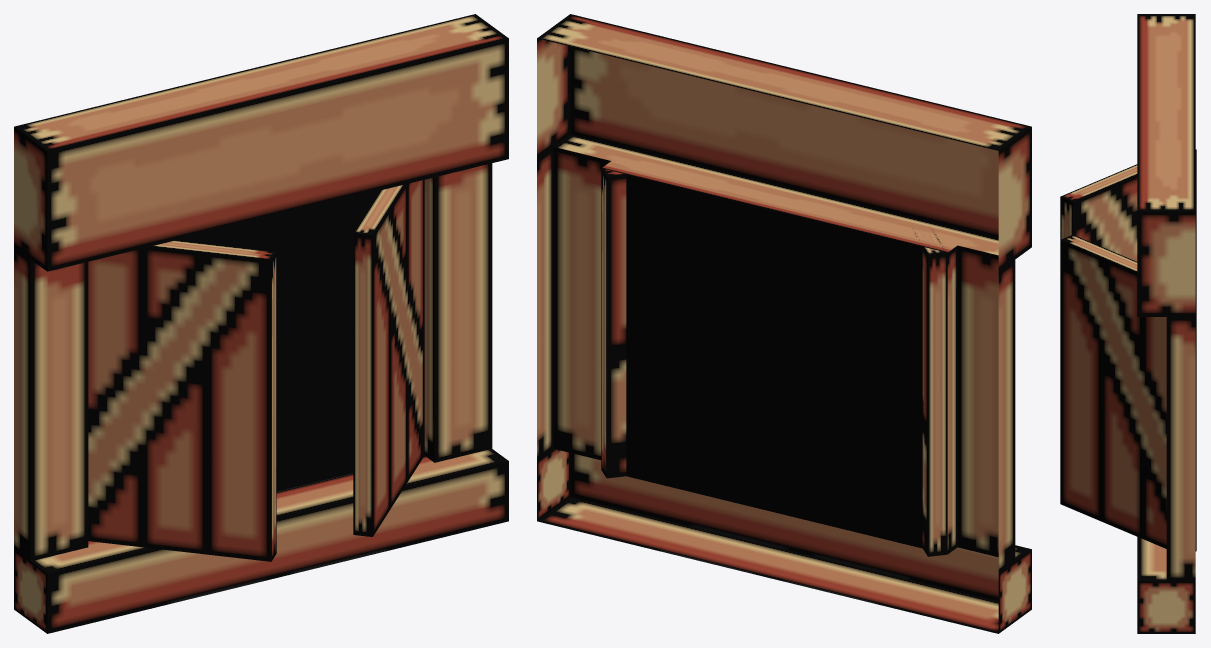
Rendered from arch_window_woodOpen.FBX.
3 views of the same model, side by side, from view 1: azimuth 30°, elevation 25°; view 2: azimuth 150°, elevation 25°; view 3: azimuth 270°, elevation 25° (orthographic). The views are drawn at different scales.
Visible parts, largest first — view 1: arch_window_woodOpen; view 2: arch_window_woodOpen; view 3: arch_window_woodOpen.
Boxes of the visible parts, x1,y1,x2,y2 form: arch_window_woodOpen: (14, 14, 508, 633); arch_window_woodOpen: (537, 14, 1031, 633); arch_window_woodOpen: (1060, 14, 1196, 633).
Size of the model in its own units: 3 by 3 by 0.876.
Materials: 1 (1 with a texture image).
